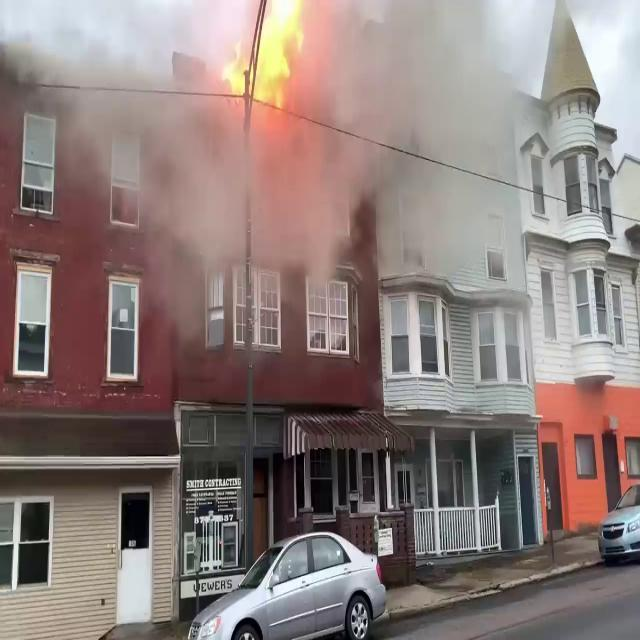Fire: (220, 0, 312, 116)
Smoke: (295, 0, 535, 304), (89, 54, 345, 324)
